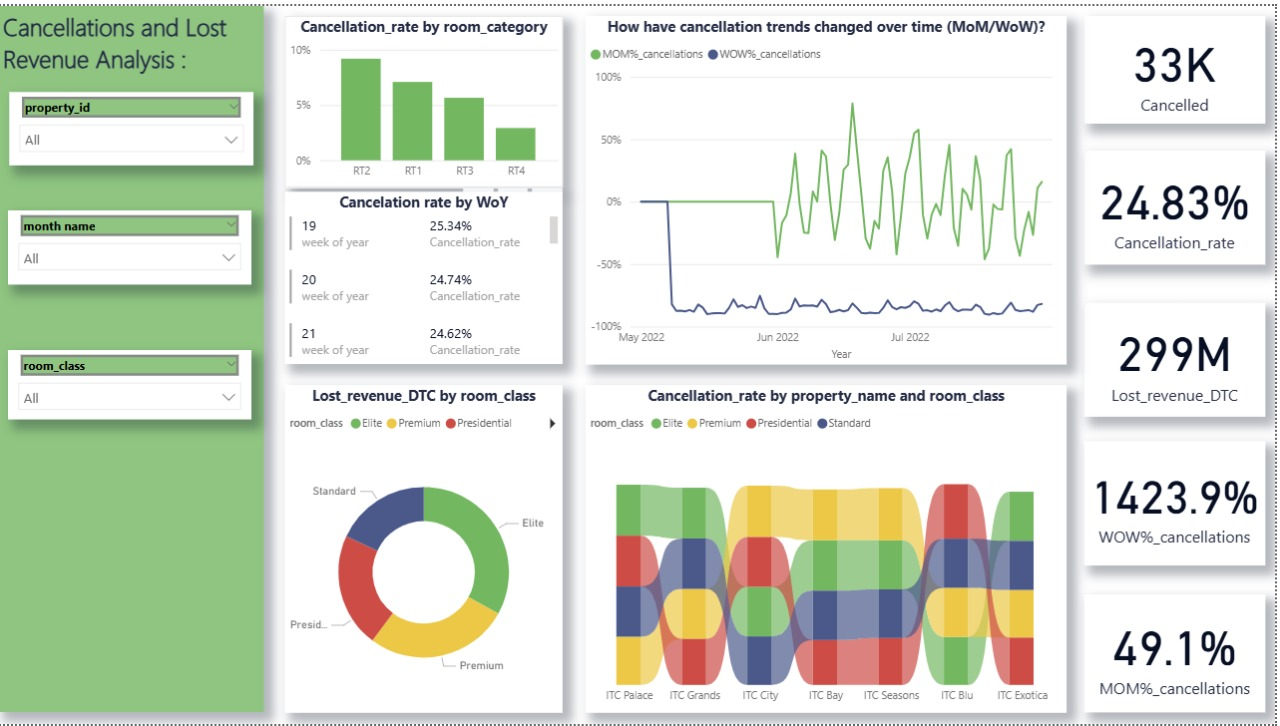

Layout of this report page (visuals, bound fields, positions):
{"tool":"powerbi","page":{"name":"Cancellations Insights","canvas":[1280,720],"ordinal":3},"visuals":[{"type":"actionButton","box":[0,0,100,40],"z":0},{"type":"textbox","box":[0,0,266.3,707.9],"z":0,"group":"g1"},{"type":"group","id":"g1","title":"Group 1","box":[0,0,266.3,707.9],"z":1000},{"type":"card","fields":{"Values":["Table.cancellation_rate"]},"box":[1088.7,145.6,181.6,114.5],"z":2000},{"type":"slicer","fields":{"Values":["hotels.property_id"]},"box":[11.2,85.8,245.1,73.4],"z":3000},{"type":"ribbonChart","fields":{"Category":["hotels.property_name"],"Y":["Measures Table.Cancellation_rate"],"Series":["rooms.room_class"]},"box":[588.5,379.5,482.7,328.5],"z":4000},{"type":"card","fields":{"Values":["Table.WOW%_cancellations"]},"box":[1088.7,436.7,181.6,124.4],"z":5000},{"type":"card","fields":{"Values":["Table.MOM%_cancellations"]},"box":[1088.7,589.7,181.6,118.2],"z":6000},{"type":"slicer","fields":{"Values":["calendar.month name"]},"box":[10,205.3,243.9,74.7],"z":7000},{"type":"card","fields":{"Values":["Table.Lost_revenue_DTC"]},"box":[1088.7,297.4,181.6,114.5],"z":8000},{"type":"slicer","fields":{"Values":["rooms.room_class"]},"box":[10,344.6,243.9,69.7],"z":9000},{"type":"card","fields":{"Values":["Table.cancelled"]},"box":[1088.7,10,181.6,108.2],"z":10000},{"type":"columnChart","fields":{"Y":["Table.cancellation_rate"],"Category":["bookings.room_category"]},"box":[287.4,10,278.7,172.9],"z":11000},{"type":"lineChart","title":"How have cancellation trends changed over time (MoM/WoW)?","fields":{"Y":["Table.MOM%_cancellations","Table.WOW%_cancellations"],"Category":["calendar.Date.Variation.Date Hierarchy.Year","calendar.Date.Variation.Date Hierarchy.Month","calendar.Date.Variation.Date Hierarchy.Day"]},"box":[588.5,10,482.7,349.6],"z":12000},{"type":"donutChart","fields":{"Category":["rooms.room_class"],"Y":["Table.Lost_revenue_DTC"]},"box":[287.4,379.5,278.7,328.5],"z":13000},{"type":"multiRowCard","title":"Cancelation rate by WoY","fields":{"Values":["calendar.week of year","Measures Table.Cancellation_rate"]},"box":[287.4,186.6,278.7,172.9],"z":13001}]}

Visuals, with their boxes in screenshot pixels (x1, y1, x2, y2), scaled from the page's 1280x720 canvas onto the 1280x726 screenshot:
actionButton: box=[0, 0, 100, 40]
textbox: box=[0, 0, 266, 714]
"Group 1" group: box=[0, 0, 266, 714]
card - Table.cancellation_rate: box=[1089, 147, 1270, 262]
slicer - hotels.property_id: box=[11, 87, 256, 161]
ribbonChart - hotels.property_name x Measures Table.Cancellation_rate: box=[588, 383, 1071, 714]
card - Table.WOW%_cancellations: box=[1089, 440, 1270, 566]
card - Table.MOM%_cancellations: box=[1089, 595, 1270, 714]
slicer - calendar.month name: box=[10, 207, 254, 282]
card - Table.Lost_revenue_DTC: box=[1089, 300, 1270, 415]
slicer - rooms.room_class: box=[10, 347, 254, 418]
card - Table.cancelled: box=[1089, 10, 1270, 119]
columnChart - Table.cancellation_rate x bookings.room_category: box=[287, 10, 566, 184]
"How have cancellation trends changed over time (MoM/WoW)?" lineChart: box=[588, 10, 1071, 363]
donutChart - rooms.room_class x Table.Lost_revenue_DTC: box=[287, 383, 566, 714]
"Cancelation rate by WoY" multiRowCard: box=[287, 188, 566, 362]
